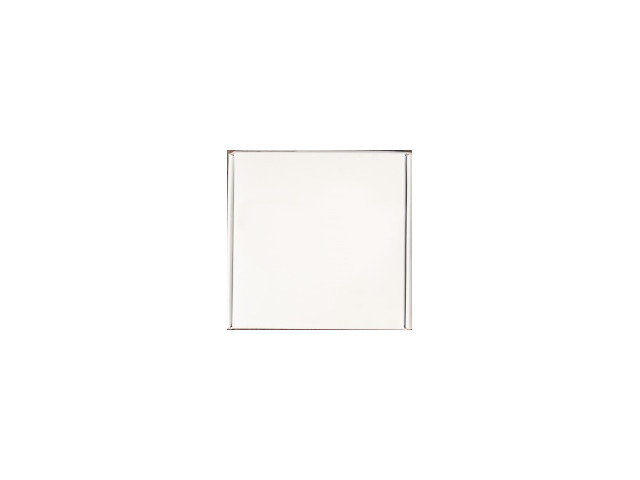cardboard: (226, 150, 410, 327)
